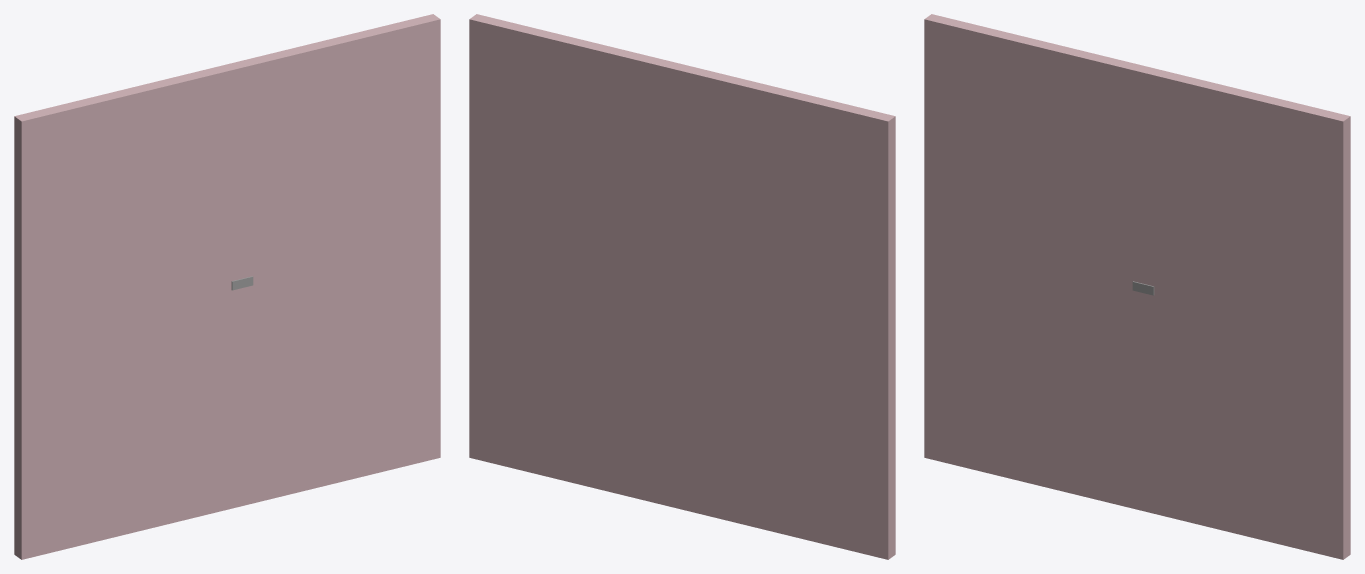
File: board.glb
3 renders of one model, left to right at view 1: azimuth 30°, elevation 25°; view 2: azimuth 150°, elevation 25°; view 3: azimuth 330°, elevation 25°, orthographic.
Visible parts, largest first — view 1: Substrate_Layer_0; view 2: Substrate_Layer_0; view 3: Substrate_Layer_0.
Part boxes in pixels (x1,y1,x2,y2): Substrate_Layer_0: [14, 14, 440, 559]; Substrate_Layer_0: [469, 14, 895, 559]; Substrate_Layer_0: [924, 14, 1350, 559].
Bounding box in the file's own units: 0.1 × 0.1 × 0.0035.
